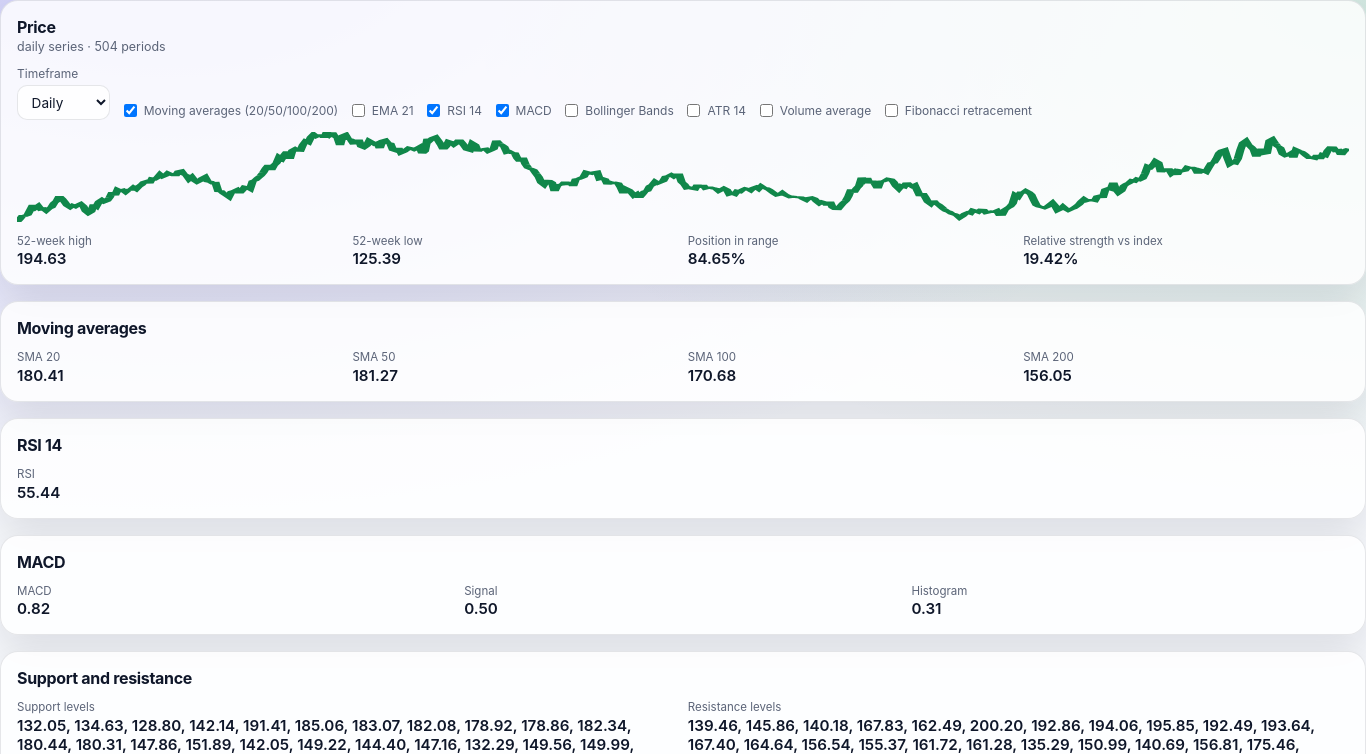
Test: CompanyTechnicals › switches across every timeframe
Select "Weekly" in the dropdown labelled "Timeframe" at (64, 103), box [17,85,110,120]
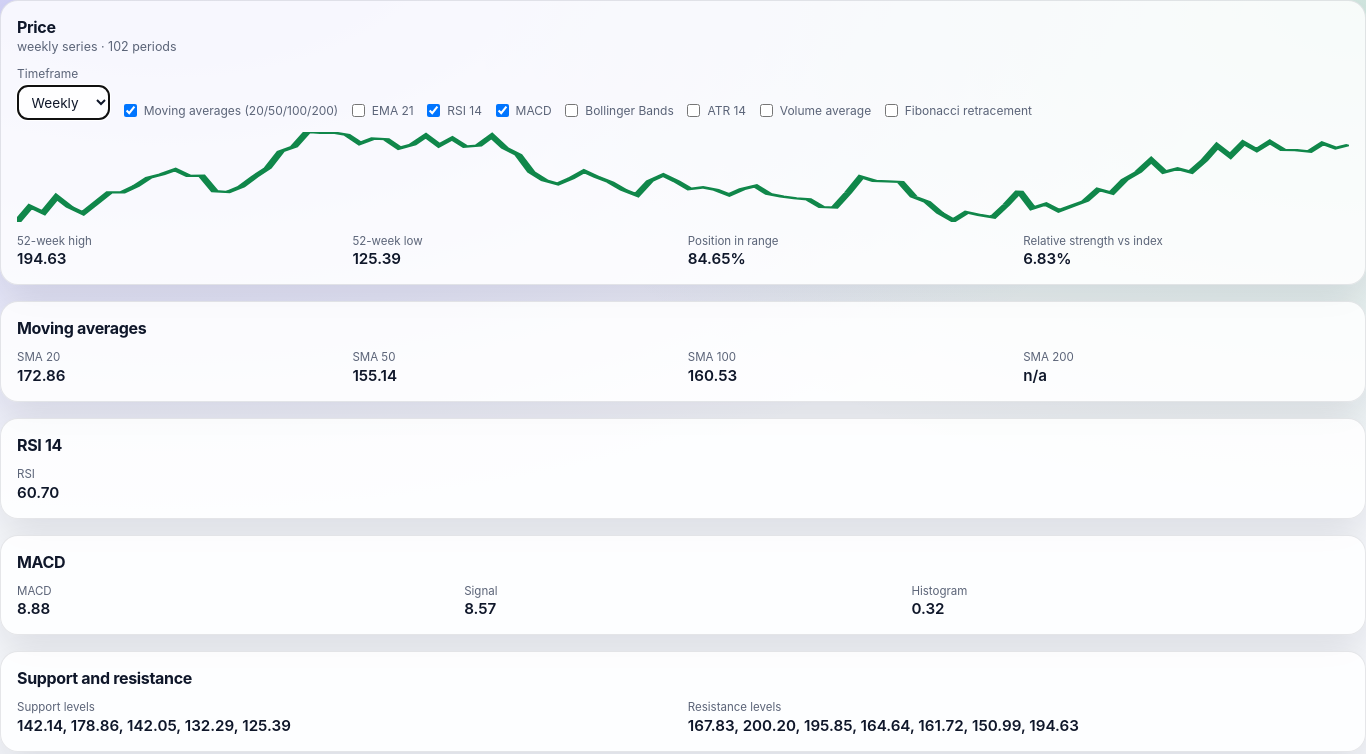
Check: the text "weekly series · 102 periods" is shown, box [17,39,177,54]
Select "Monthly" in the dropdown labelled "Timeframe" at (64, 103), box [17,85,110,120]
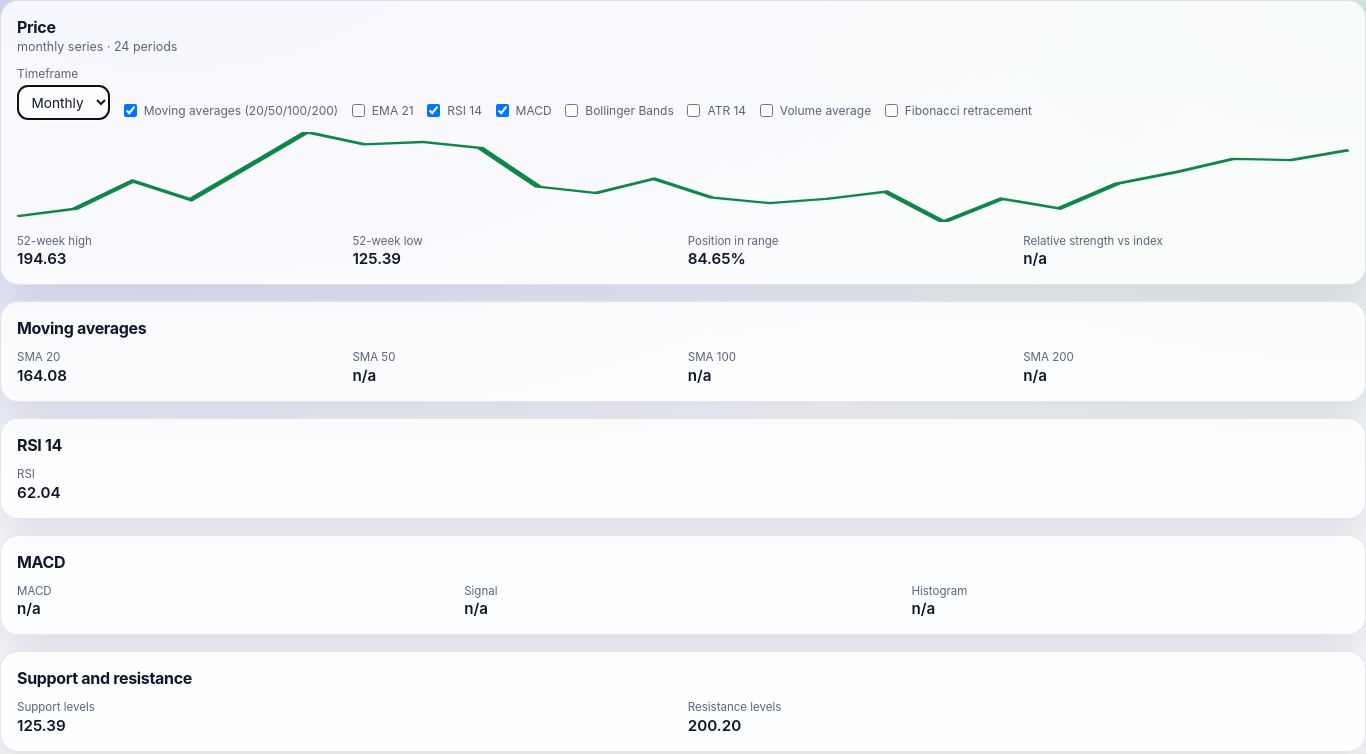
Check: the text "monthly series · 24 periods" is shown, box [17,39,177,54]
Select "Daily" in the dropdown labelled "Timeframe" at (64, 103), box [17,85,110,120]
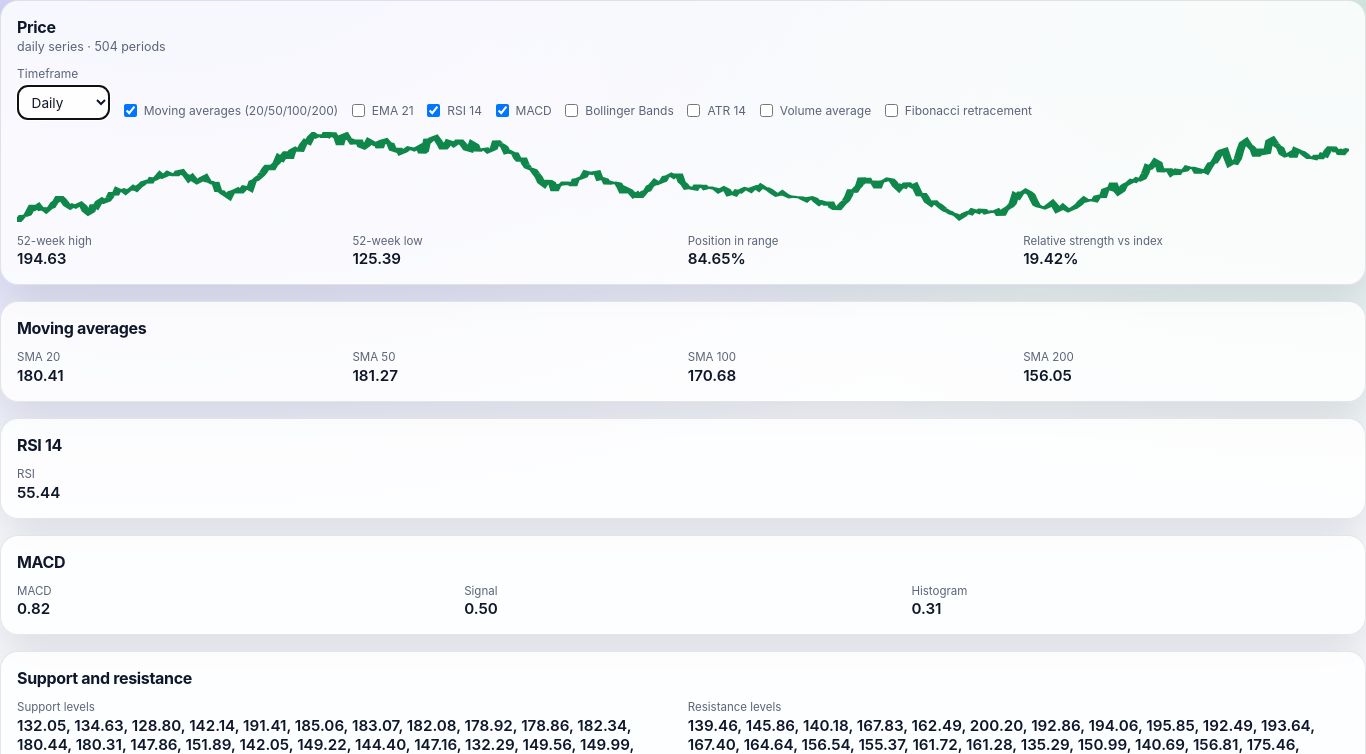
Check: the text "daily series · 504 periods" is shown, box [17,39,166,54]
